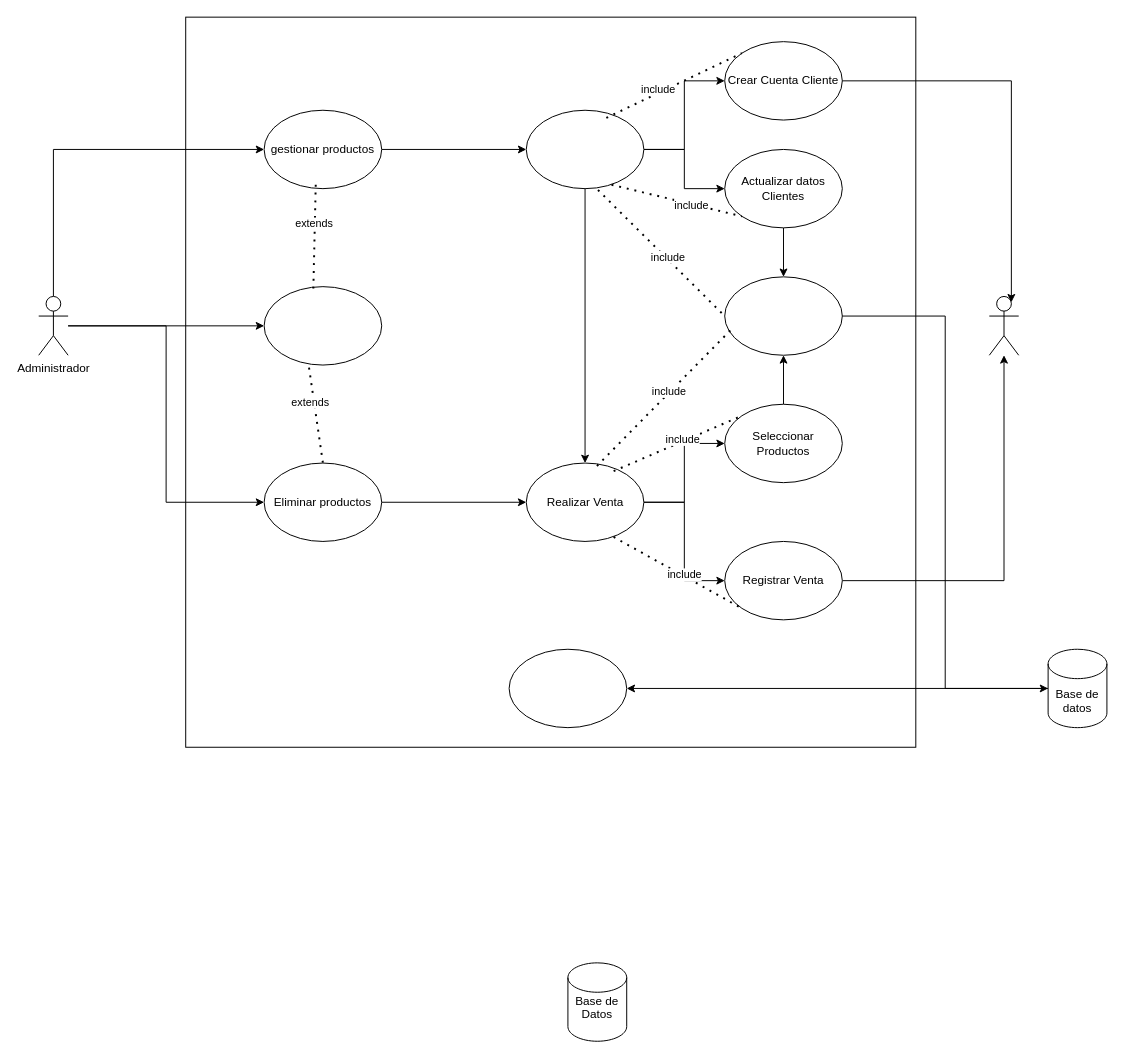
Image size: 1124x1058. Some labels were removed from this diagram. Here are the shapes that lost their labels. From the top down, the box of each, then its label:
(525, 109, 644, 189): Registrar usuario
(263, 286, 382, 365): modificar productos
(724, 276, 842, 355): Guardar Informacion
(988, 295, 1019, 355): Cliente
(508, 648, 627, 728): mrar ventas
